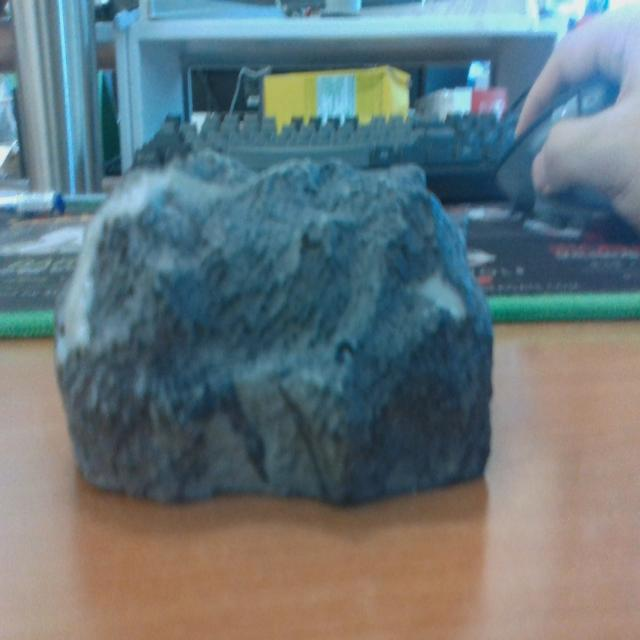stone: (51, 149, 497, 511)
